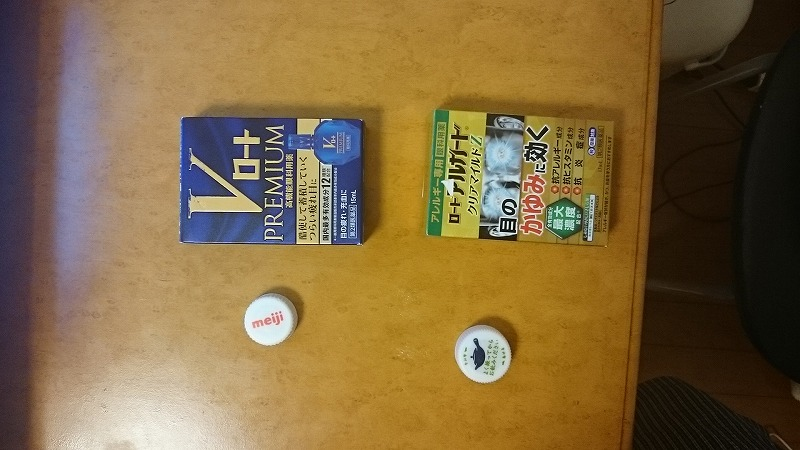A: (444, 317, 518, 385)
B: (242, 292, 299, 352)
C: (420, 102, 620, 253)
D: (175, 109, 369, 252)
